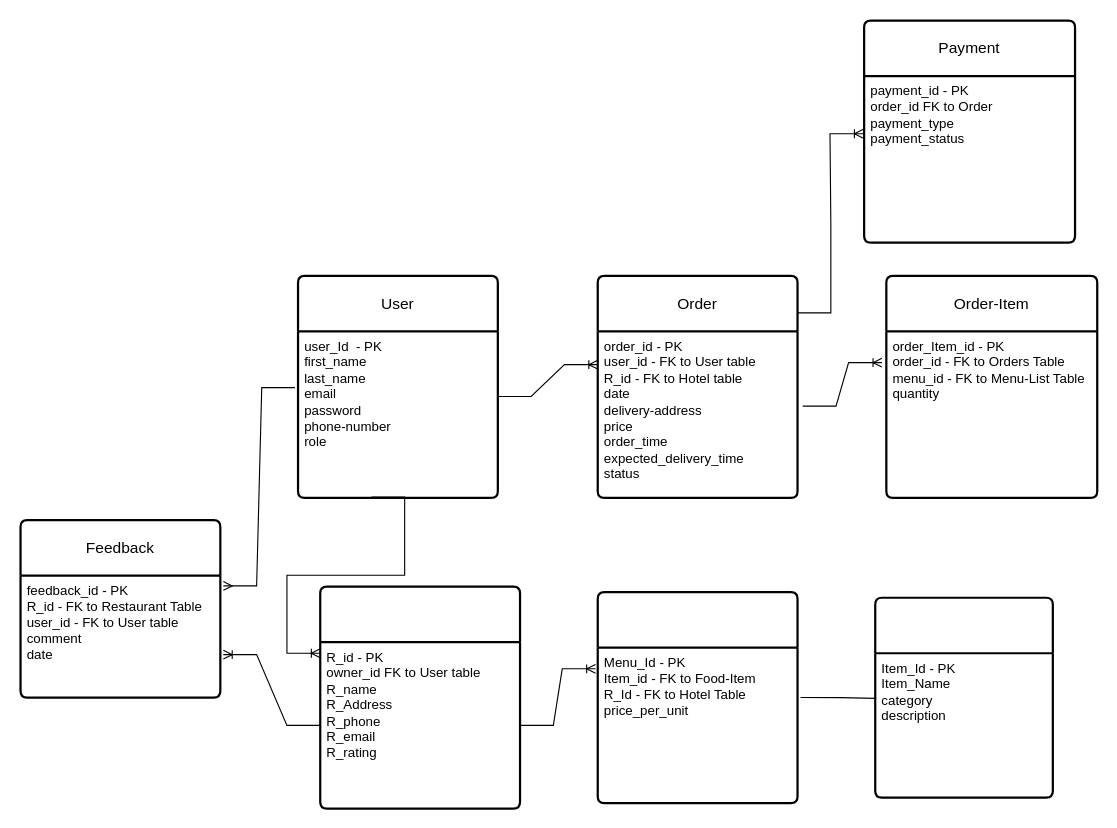
This 1117x828 diagram has some shape labels left out. The shapes that lost their labels are listed below. From the top down, each one's box as (x1, y1, x2, y2) in pixels, then its label:
(319, 585, 521, 809): Restaurant/Hotel
(596, 591, 798, 804): Menu-Item
(874, 596, 1053, 798): Food-Item
